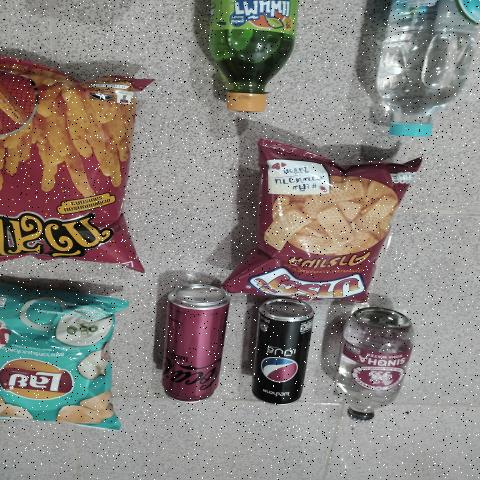coke_red: (166, 287, 222, 401)
lay_blue: (0, 302, 120, 419)
party_red: (269, 162, 382, 295)
pepsi_black: (266, 296, 310, 413)
singha_soda: (338, 308, 414, 423)
twisco: (0, 74, 150, 265)
